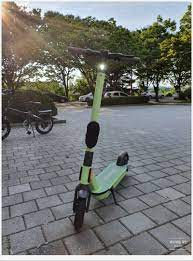kick_board: (67, 46, 141, 226)
kick_handler: (68, 44, 140, 68)
kick_neck: (78, 75, 104, 180)
kick_wheel: (73, 189, 88, 228), (118, 153, 131, 172)
